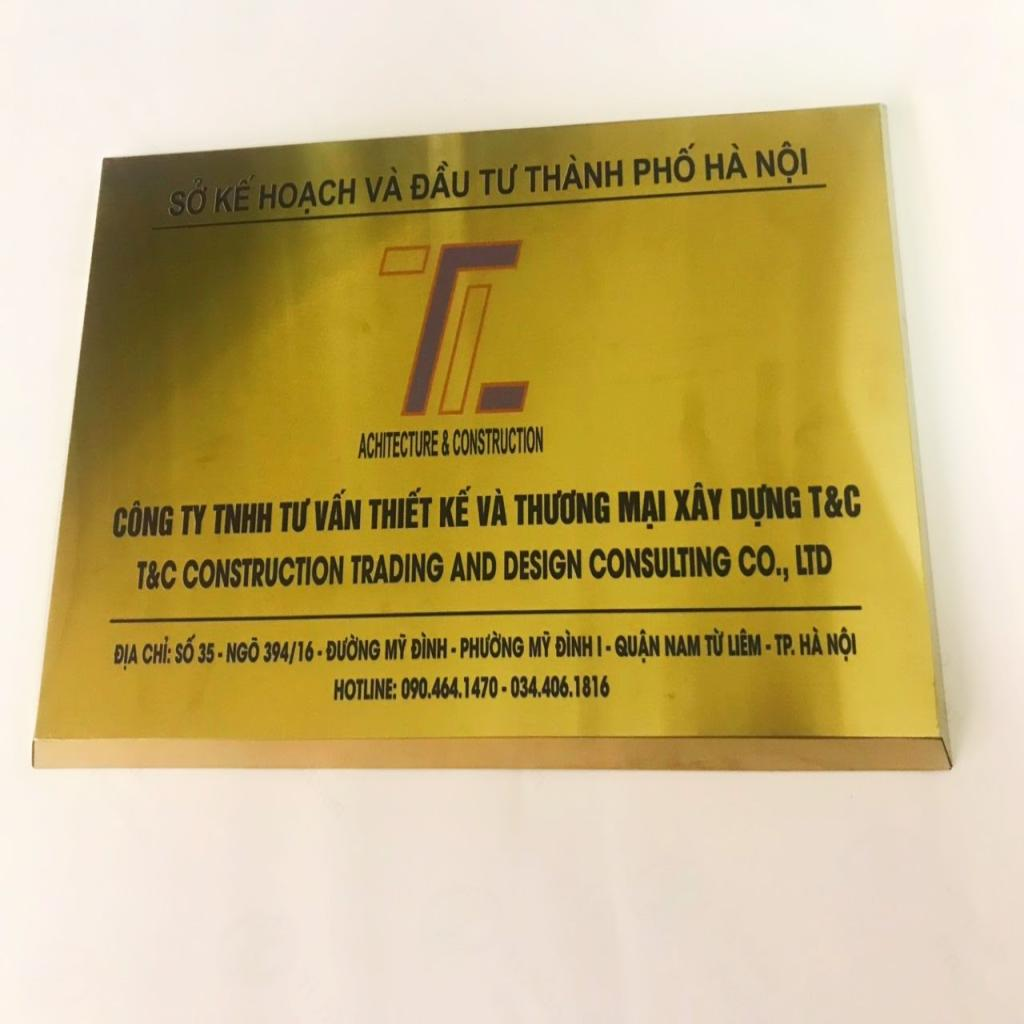text: (182, 555, 347, 591), (588, 545, 734, 580), (256, 177, 358, 221), (524, 153, 625, 195), (515, 487, 613, 527), (730, 480, 804, 531), (631, 139, 698, 191), (348, 552, 446, 586), (452, 424, 545, 458), (366, 486, 434, 532), (400, 672, 499, 702), (110, 498, 176, 541), (504, 548, 584, 582), (411, 158, 471, 203), (756, 138, 810, 186), (670, 480, 726, 526), (358, 429, 439, 460), (311, 486, 364, 532), (806, 481, 864, 521), (618, 488, 670, 532), (164, 175, 214, 220), (460, 628, 526, 662), (210, 502, 274, 536), (736, 544, 791, 583), (705, 138, 750, 184), (324, 632, 383, 664), (613, 628, 662, 666), (333, 676, 399, 703), (214, 173, 256, 214), (363, 165, 406, 204), (438, 484, 474, 530), (449, 552, 499, 584), (262, 639, 316, 668), (476, 485, 510, 529), (135, 559, 180, 591), (277, 496, 313, 535), (826, 623, 860, 664), (795, 544, 836, 577), (554, 626, 594, 659), (478, 164, 520, 195), (410, 630, 449, 662), (727, 626, 763, 658), (140, 634, 173, 668), (226, 636, 262, 666), (796, 624, 826, 658), (664, 635, 703, 660), (702, 623, 728, 660), (179, 504, 208, 536), (112, 643, 141, 674), (384, 630, 410, 664), (174, 632, 198, 666), (527, 629, 553, 658), (771, 631, 798, 658), (197, 640, 217, 666), (441, 428, 453, 458), (595, 635, 604, 660)
